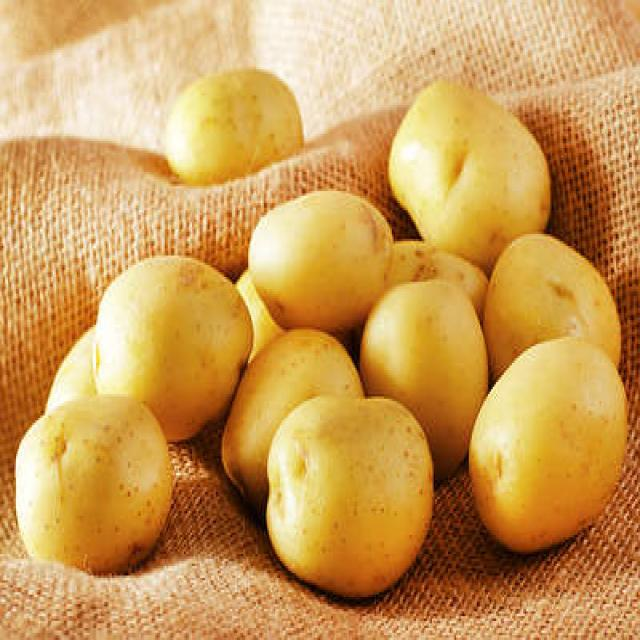potato: (464, 330, 630, 557), (266, 391, 436, 596), (12, 392, 177, 576), (93, 255, 250, 446), (389, 83, 552, 250), (366, 277, 488, 461), (245, 188, 392, 324), (481, 233, 623, 369), (162, 69, 304, 192)
